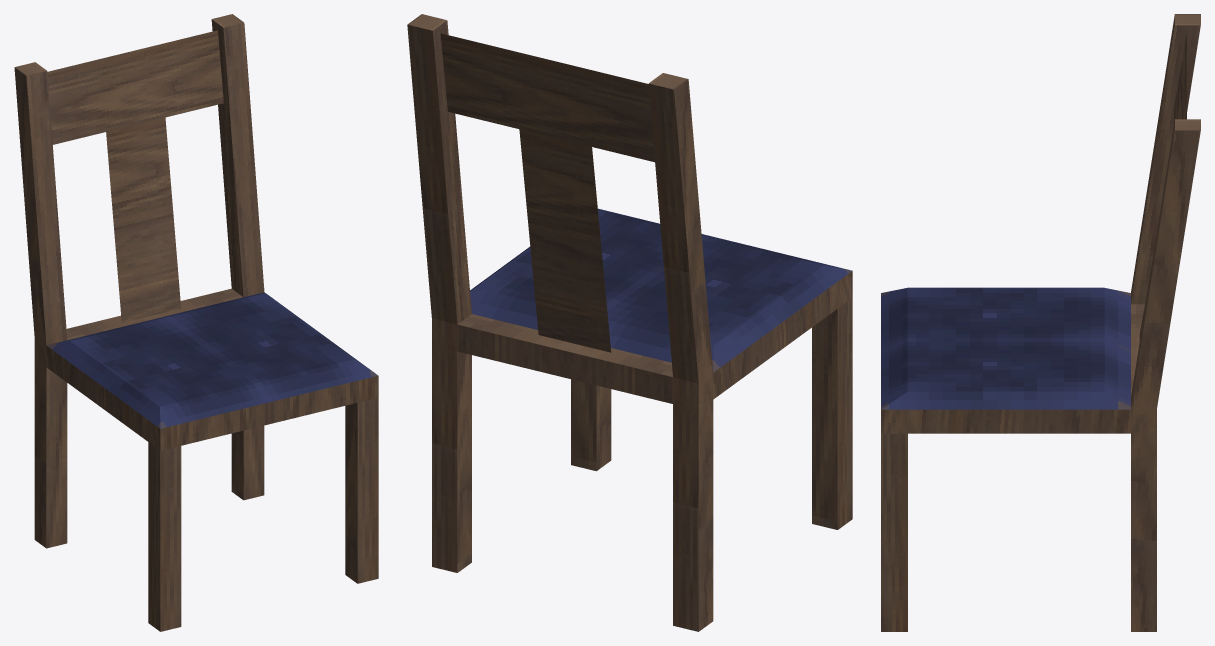
Rendered from Chair.fbx.
3 renders of one model, left to right at view 1: azimuth 30°, elevation 25°; view 2: azimuth 150°, elevation 25°; view 3: azimuth 270°, elevation 25°, orthographic. The views are drawn at different scales.
Visible parts, largest first — view 1: Cube, Plane.001; view 2: Cube, Plane.001; view 3: Cube, Plane.001.
Boxes of the visible parts, x1=… form: Cube: x1=14, y1=14, x2=378, y2=631; Plane.001: x1=47, y1=30, x2=223, y2=322; Cube: x1=407, y1=14, x2=852, y2=631; Plane.001: x1=440, y1=33, x2=654, y2=352; Cube: x1=881, y1=14, x2=1200, y2=631; Plane.001: x1=1139, y1=34, x2=1186, y2=340.
Size of the model in its own units: 200 by 401 by 232.
Materials: 2 (2 with a texture image).
